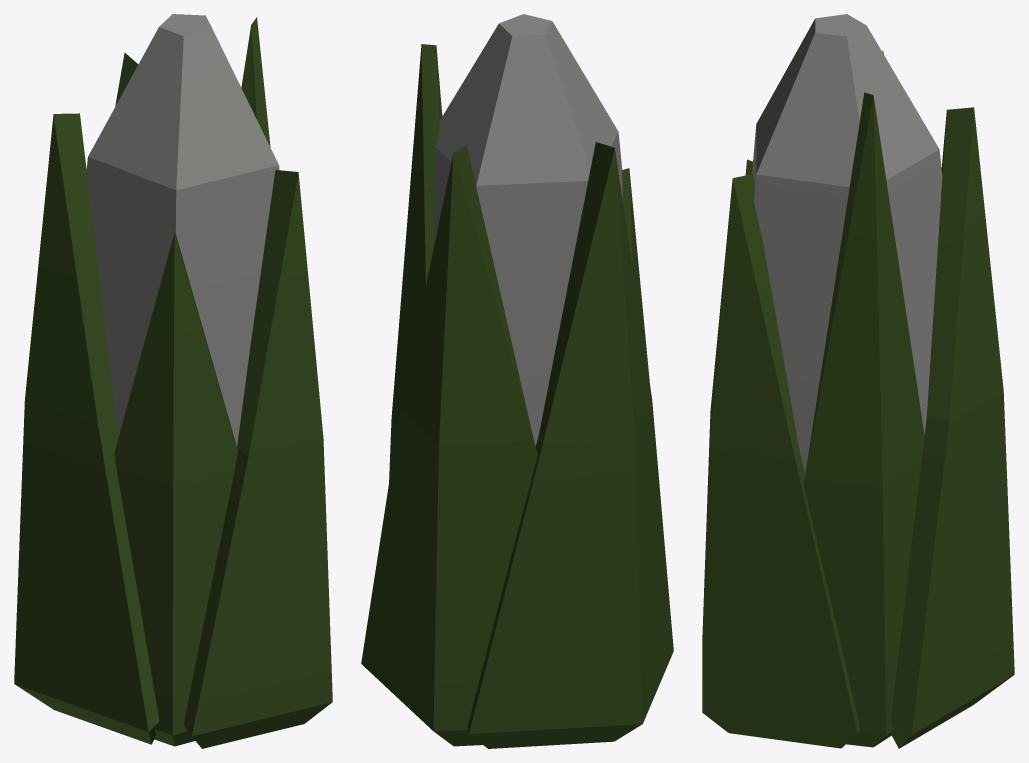
File: Corn_01.fbx
3 renders of one model, left to right at view 1: azimuth 30°, elevation 25°; view 2: azimuth 150°, elevation 25°; view 3: azimuth 270°, elevation 25°, orthographic.
Parts seen in each view (by area): view 1: Corn_01; view 2: Corn_01; view 3: Corn_01.
Part boxes in pixels (bbox=[...]): Corn_01: bbox=[14, 14, 332, 748]; Corn_01: bbox=[361, 14, 673, 748]; Corn_01: bbox=[702, 14, 1014, 748].
Bounding box in the file's own units: 0.1162 × 0.2736 × 0.1145.
